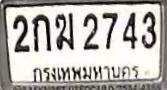2: (12, 14, 29, 52), (82, 12, 98, 49)
3: (140, 11, 156, 48)
4: (122, 11, 136, 48)
7: (101, 12, 117, 49)
A01: (31, 13, 50, 51)
A06: (54, 12, 73, 50)
BKK: (30, 60, 141, 83)
